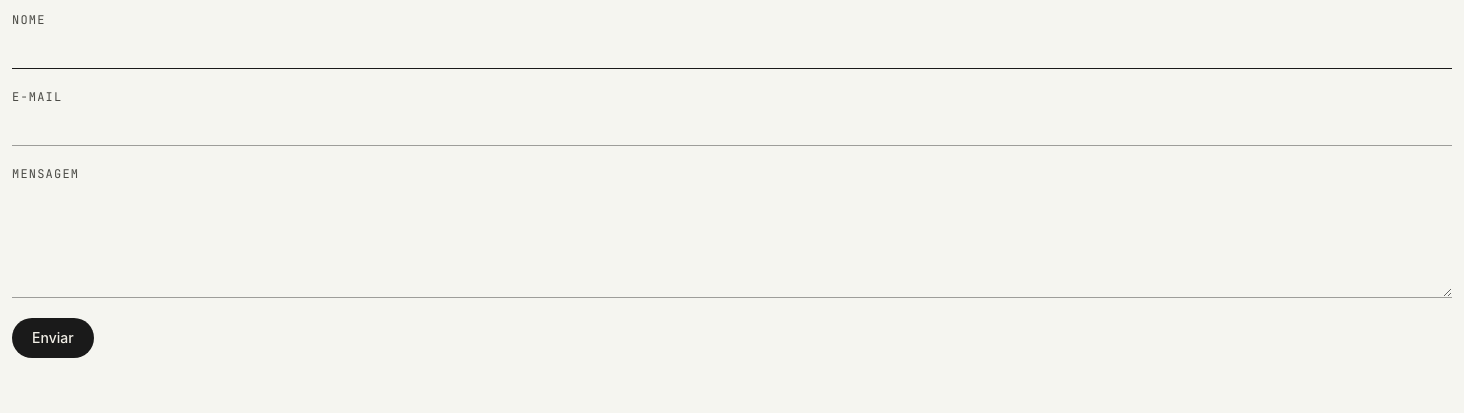
Scenario: ContactForm › mostra sucesso e limpa o formulário
The width and height of the screenshot is (1464, 413).
Type "Ana" into the field labelled "Nome" at point(732, 50), box [12, 32, 1452, 69]
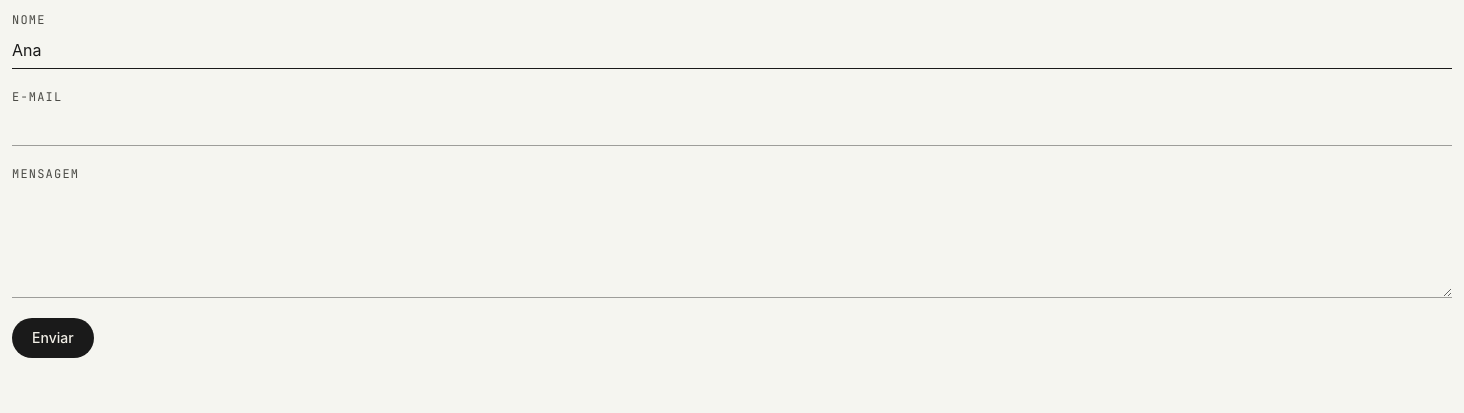
Type "ana@exemplo.com" into the field labelled "E-mail" at point(732, 128), box [12, 109, 1452, 146]
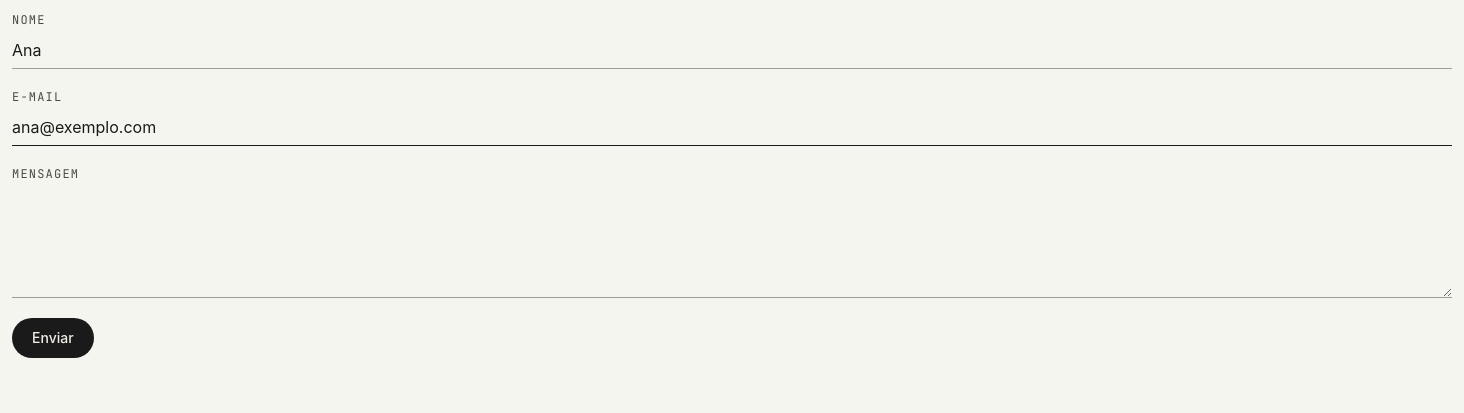
Type "Quero conversar sobre um projeto novo." into the text box labelled "Mensagem" at point(732, 242), box [12, 186, 1452, 298]
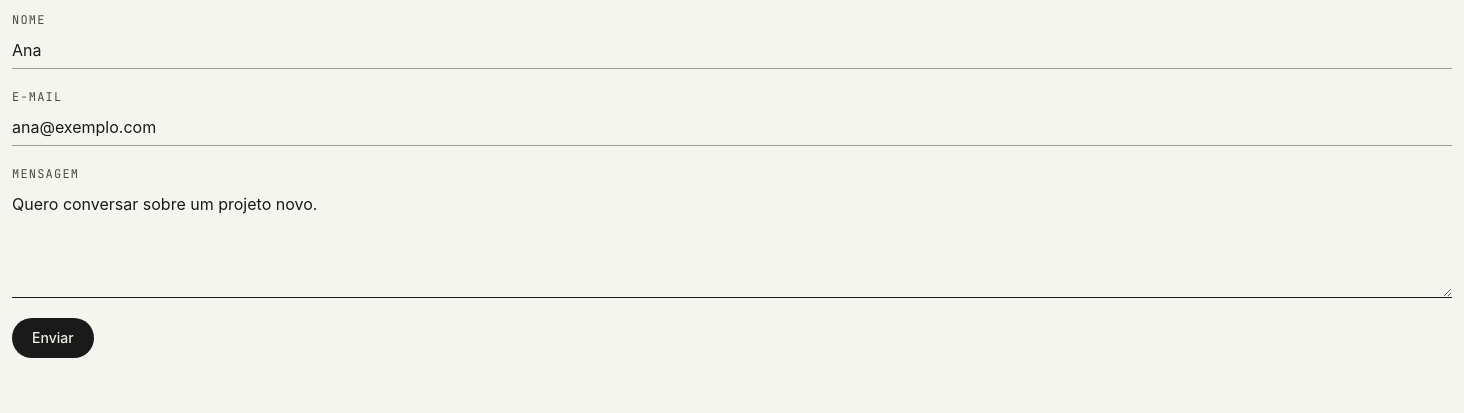
Click the button "Enviar" at point(53, 338), box [12, 318, 94, 358]
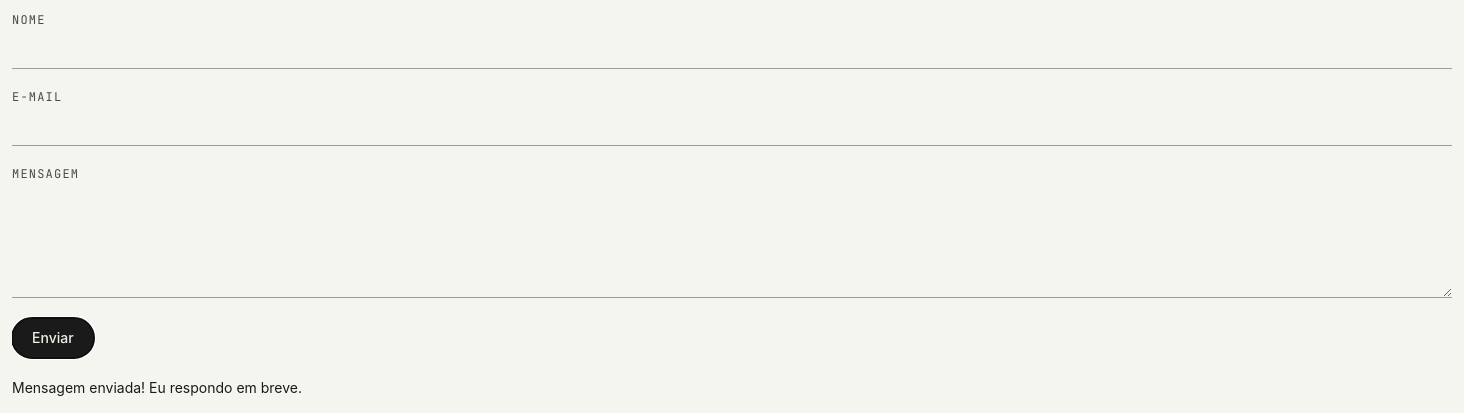
Expected: the message reads "Mensagem enviada! Eu respondo em breve.", [12, 379, 302, 396]
Expected: the field labelled "Nome" is empty, [12, 32, 1452, 69]
Expected: the text box labelled "Mensagem" is empty, [12, 186, 1452, 298]
